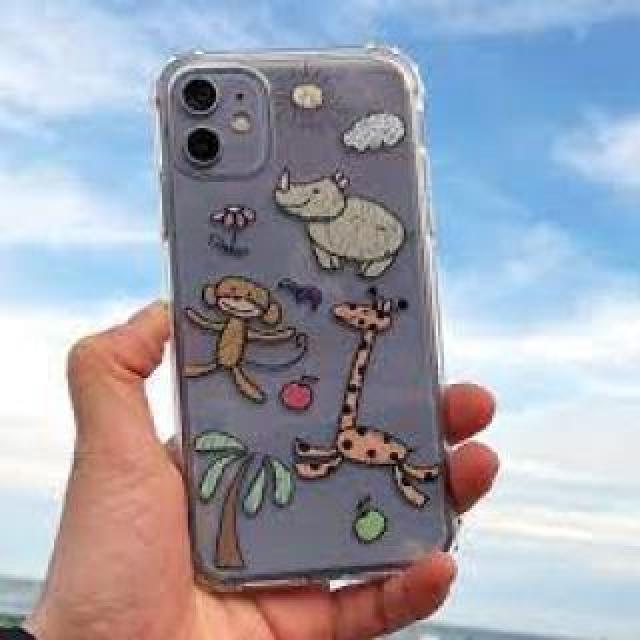smart phone: (122, 38, 480, 622)
